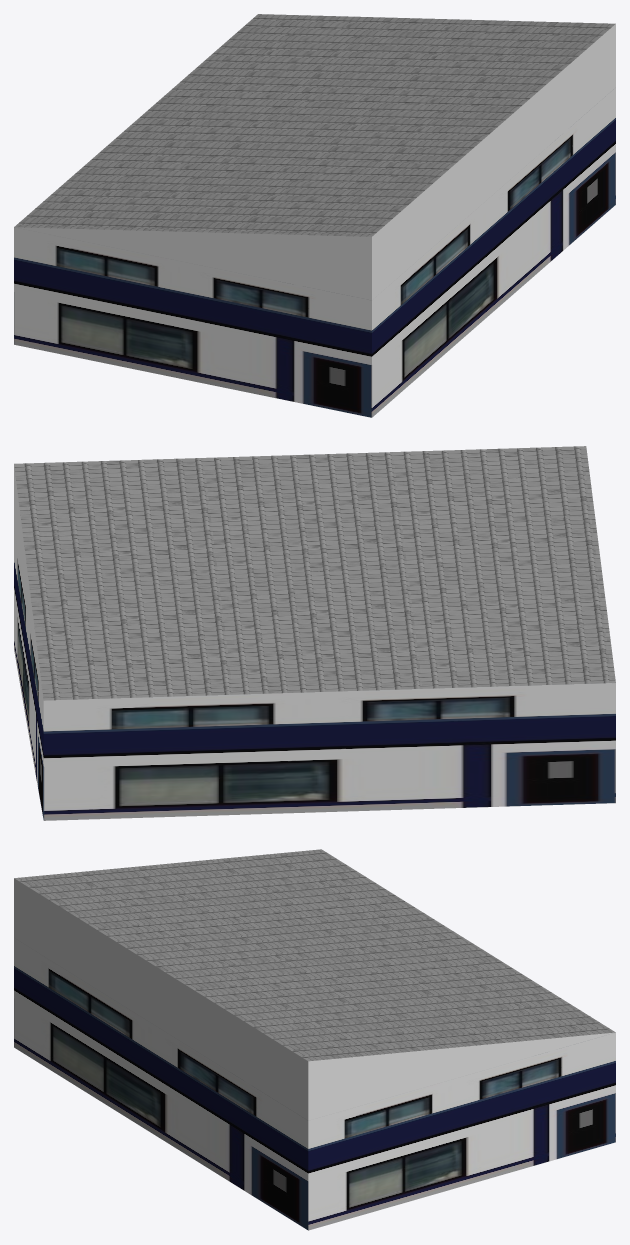
The picture shows the model from 3 angles, top to bottom: view 1: azimuth 30°, elevation 25°; view 2: azimuth 150°, elevation 25°; view 3: azimuth 270°, elevation 25°; orthographic projection. The views are drawn at different scales.
Visible parts, largest first — view 1: CityEngineMaterial_4_m, CityEngineMaterial_2_m, CityEngineMaterial_3_m; view 2: CityEngineMaterial_4_m, CityEngineMaterial_2_m, CityEngineMaterial_3_m; view 3: CityEngineMaterial_2_m, CityEngineMaterial_4_m, CityEngineMaterial_3_m.
Boxes of the visible parts, left/top/right/bottom form: CityEngineMaterial_4_m: left=14, top=14, right=615, bottom=236; CityEngineMaterial_2_m: left=14, top=87, right=615, bottom=417; CityEngineMaterial_3_m: left=15, top=24, right=615, bottom=300; CityEngineMaterial_4_m: left=14, top=446, right=615, bottom=700; CityEngineMaterial_2_m: left=14, top=530, right=615, bottom=820; CityEngineMaterial_3_m: left=14, top=465, right=43, bottom=696; CityEngineMaterial_2_m: left=14, top=938, right=615, bottom=1230; CityEngineMaterial_4_m: left=14, top=849, right=615, bottom=1061; CityEngineMaterial_3_m: left=14, top=878, right=614, bottom=1120.
Bounding box in the file's own units: 37.03 × 10.77 × 34.7.
